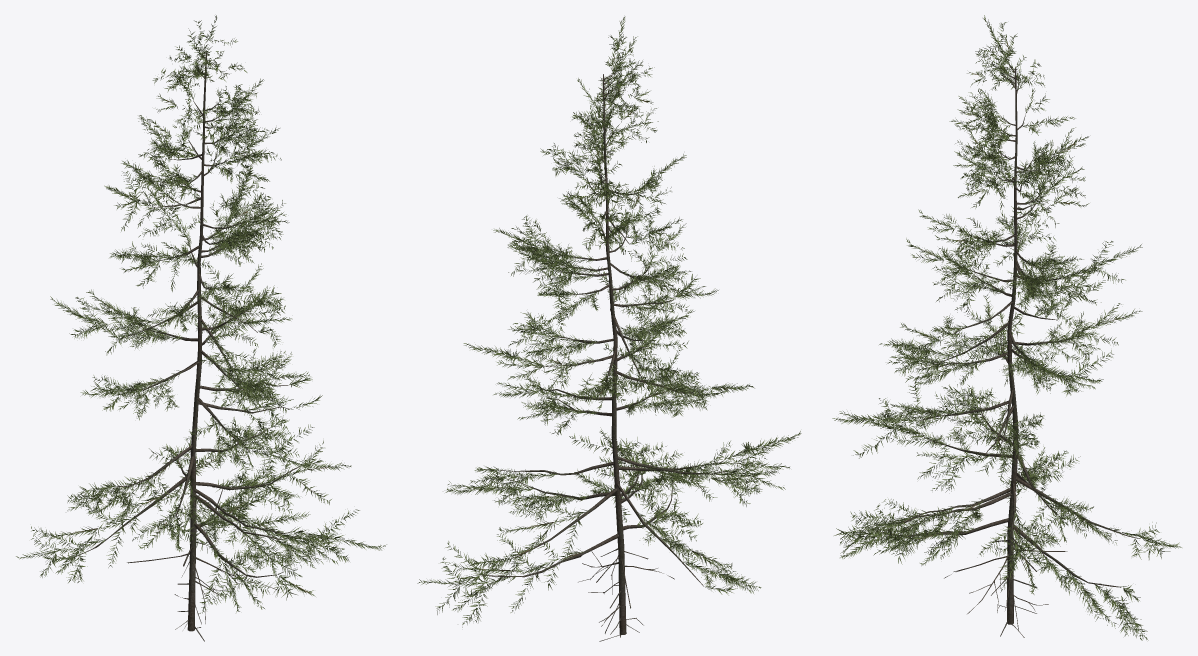
File: fir_medium_b_lod0.gltf
3 renders of one model, left to right at view 1: azimuth 30°, elevation 25°; view 2: azimuth 150°, elevation 25°; view 3: azimuth 270°, elevation 25°, orthographic. The views are drawn at different scales.
Visible parts, largest first — view 1: fir_sapling_medium_b_LOD0.002, fir_sapling_medium_b_LOD0.001, fir_sapling_medium_b_LOD0; view 2: fir_sapling_medium_b_LOD0.002, fir_sapling_medium_b_LOD0.001, fir_sapling_medium_b_LOD0; view 3: fir_sapling_medium_b_LOD0.002, fir_sapling_medium_b_LOD0.001, fir_sapling_medium_b_LOD0.
Part boxes in pixels (x1,y1,x2,y2): fir_sapling_medium_b_LOD0.002: (16, 15, 386, 613); fir_sapling_medium_b_LOD0.001: (75, 52, 301, 631); fir_sapling_medium_b_LOD0: (127, 542, 277, 641); fir_sapling_medium_b_LOD0.002: (417, 16, 801, 627); fir_sapling_medium_b_LOD0.001: (482, 72, 725, 634); fir_sapling_medium_b_LOD0: (578, 548, 674, 641); fir_sapling_medium_b_LOD0.002: (832, 15, 1181, 640); fir_sapling_medium_b_LOD0.001: (876, 64, 1140, 624); fir_sapling_medium_b_LOD0: (944, 539, 1067, 637).
Size of the model in its own units: 4.2 by 7.73 by 3.95.
Materials: 3 (3 with a texture image).
